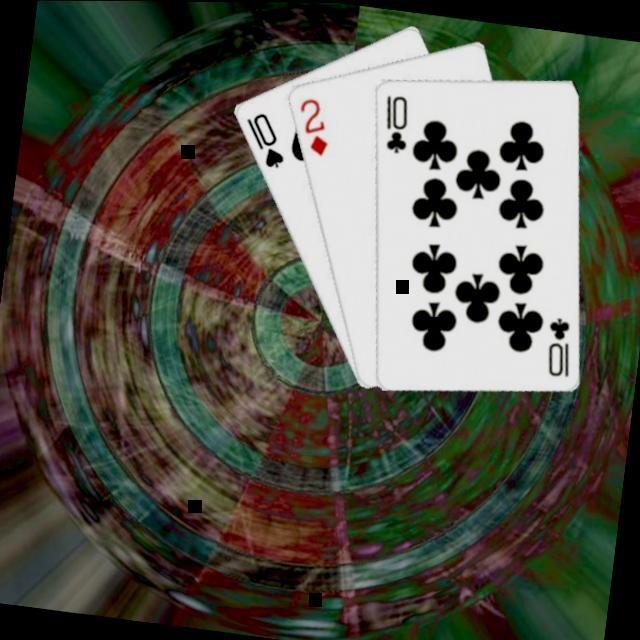10C: (537, 310, 577, 379), (374, 88, 414, 155)
10S: (236, 105, 291, 170)
2D: (290, 91, 335, 158)
